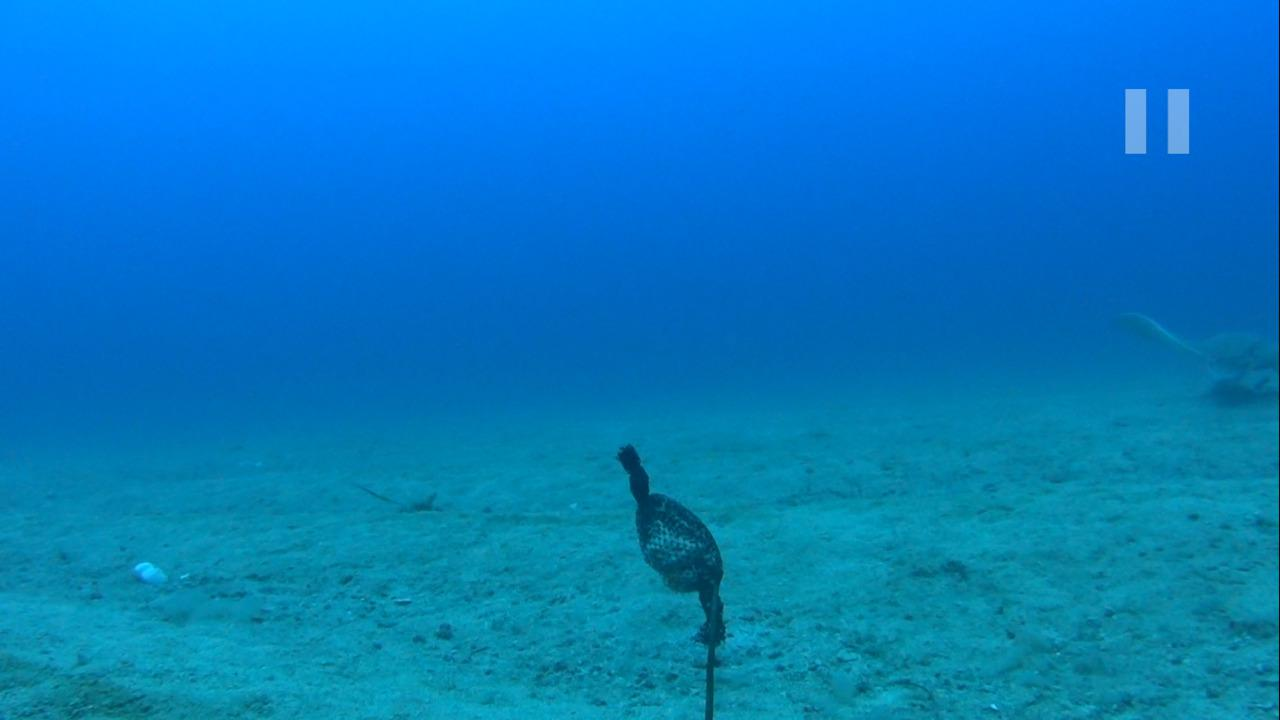myliobatis: (1094, 290, 1279, 387)
